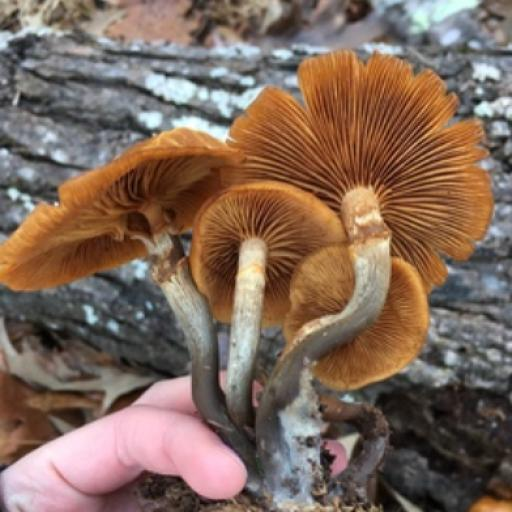Funeral Bell: (0, 46, 499, 427)
